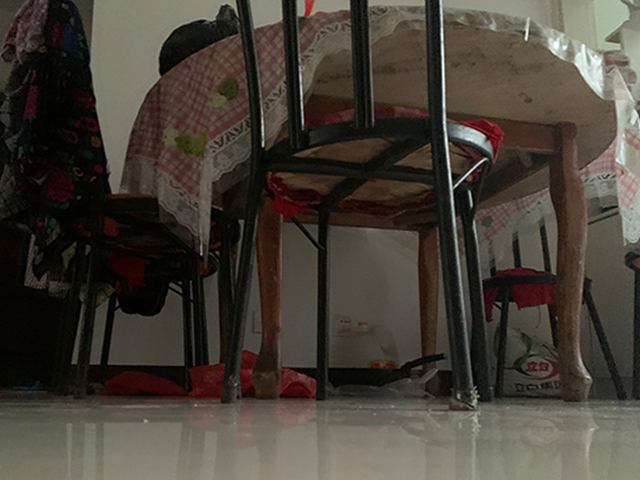slippers: (10, 377, 49, 391)
stool: (218, 1, 494, 408), (1, 1, 240, 398), (480, 218, 630, 401)
table: (117, 5, 640, 404)
